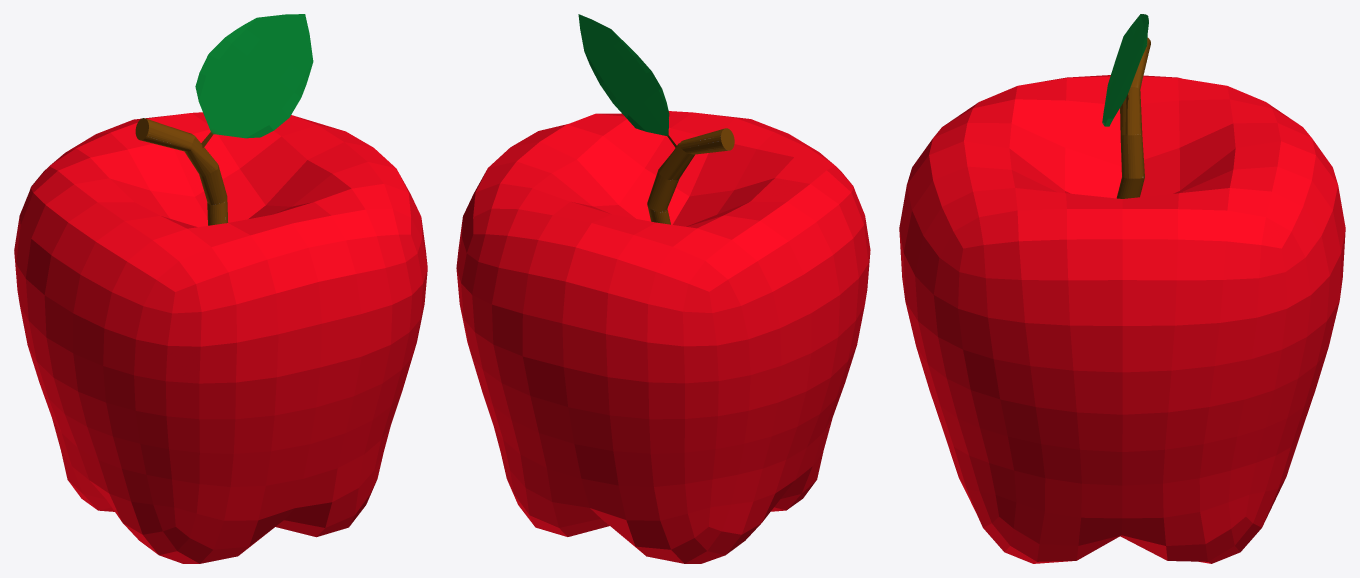
The model's file is apple.glb.
3 renders of one model, left to right at view 1: azimuth 30°, elevation 25°; view 2: azimuth 150°, elevation 25°; view 3: azimuth 270°, elevation 25°, orthographic. The views are drawn at different scales.
Visible parts, largest first — view 1: Cube, Plane, Cylinder; view 2: Cube, Plane, Cylinder; view 3: Cube, Cylinder, Plane.
Boxes of the visible parts, x1,y1,x2,y2 form: Cube: (14, 112, 427, 563); Plane: (195, 14, 313, 147); Cylinder: (135, 118, 228, 225); Cube: (456, 111, 870, 563); Plane: (578, 14, 676, 147); Cylinder: (647, 128, 734, 224); Cube: (899, 75, 1345, 563); Cylinder: (1116, 38, 1150, 198); Plane: (1102, 14, 1148, 126).
Size of the model in its own units: 1.95 by 2.55 by 1.94.
3 materials, 3 textured.
